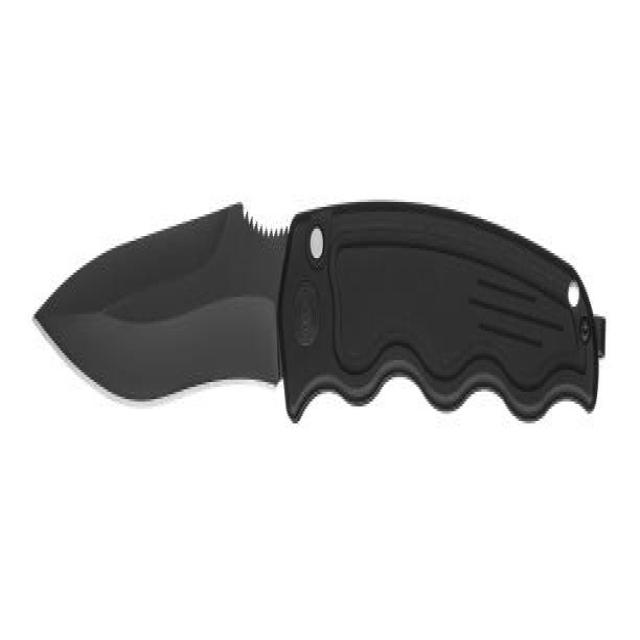knife: (25, 188, 613, 423)
